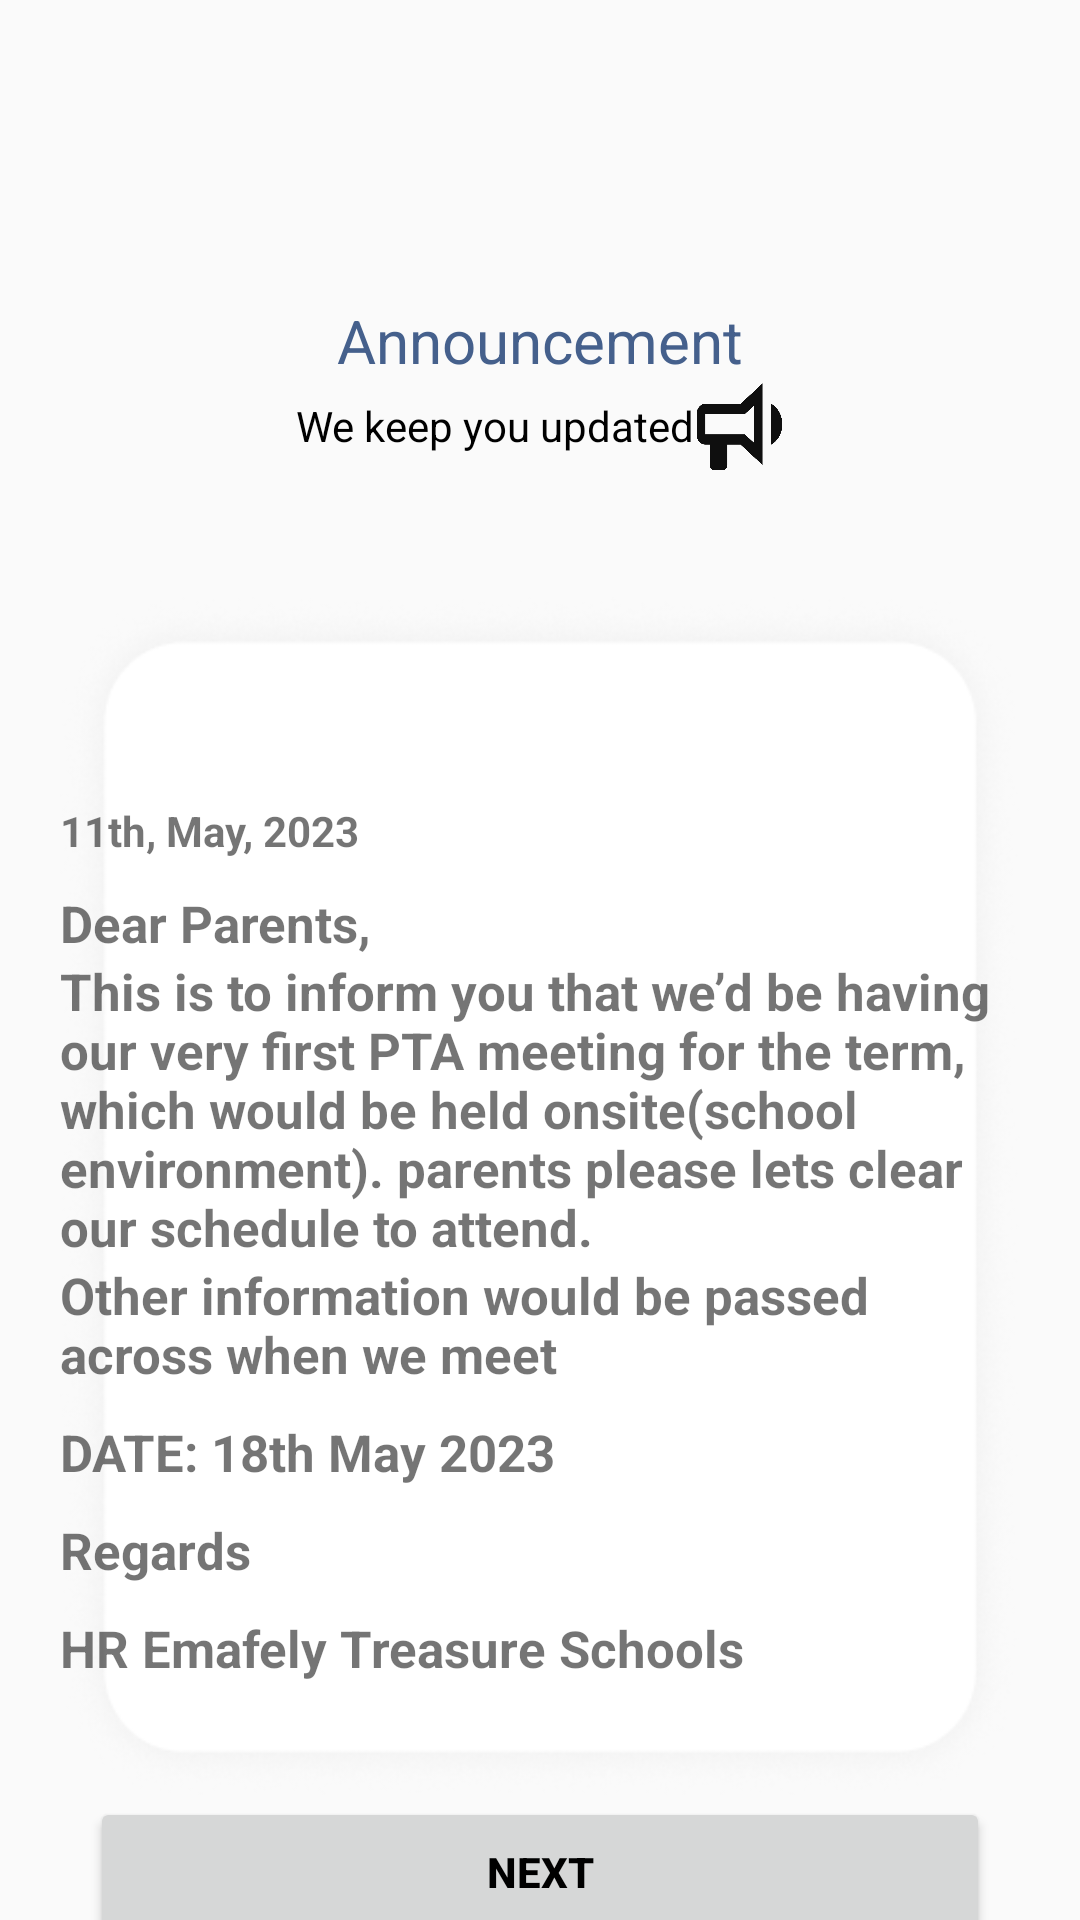

Icon click points for this 1080px×1920px phone screenshot, format point (x, y):
speaker voice: point (739, 426)
